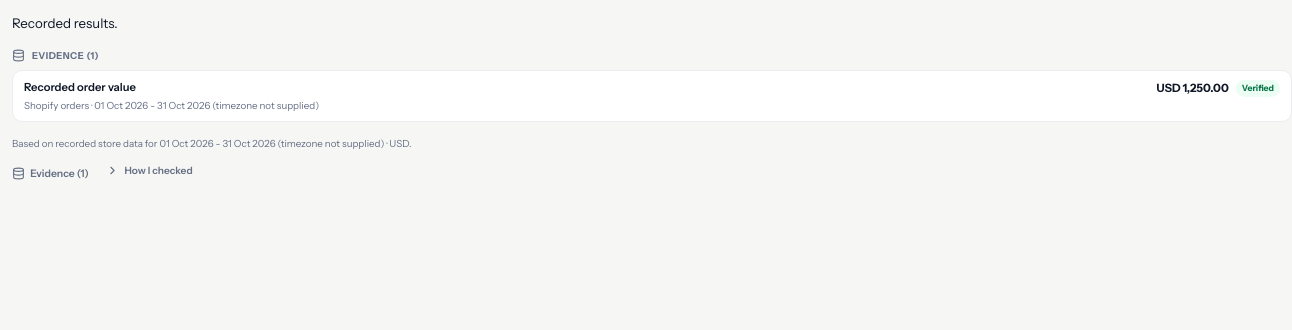
Test: evidence ledger › expands a record to its definition, updated time, limits and id
Expected: the text "Refunds lag by a day" is not shown
What coordinates should you click on to do the following:
click the button with aria-label "Recorded order value — Verified. Expand details."
I would click on:
 (80, 87)
Its box is x1=24 y1=80 x2=1280 y2=112.
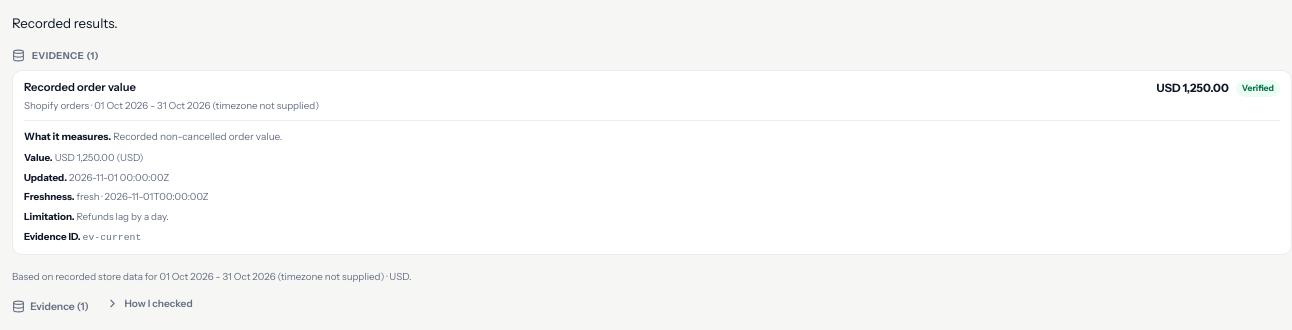
Now the text "What it measures. Recorded non-cancelled order value." is shown, box x1=24 y1=130 x2=282 y2=143
Now the text "Updated. 2026-11-01 00:00:00Z" is shown, box x1=24 y1=170 x2=169 y2=182
Now the text "Limitation. Refunds lag by a day." is shown, box x1=24 y1=210 x2=169 y2=222
